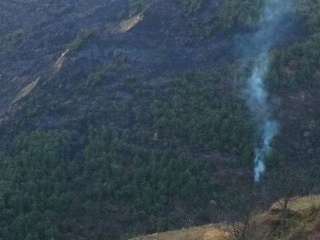yanwu: (232, 1, 295, 187)
